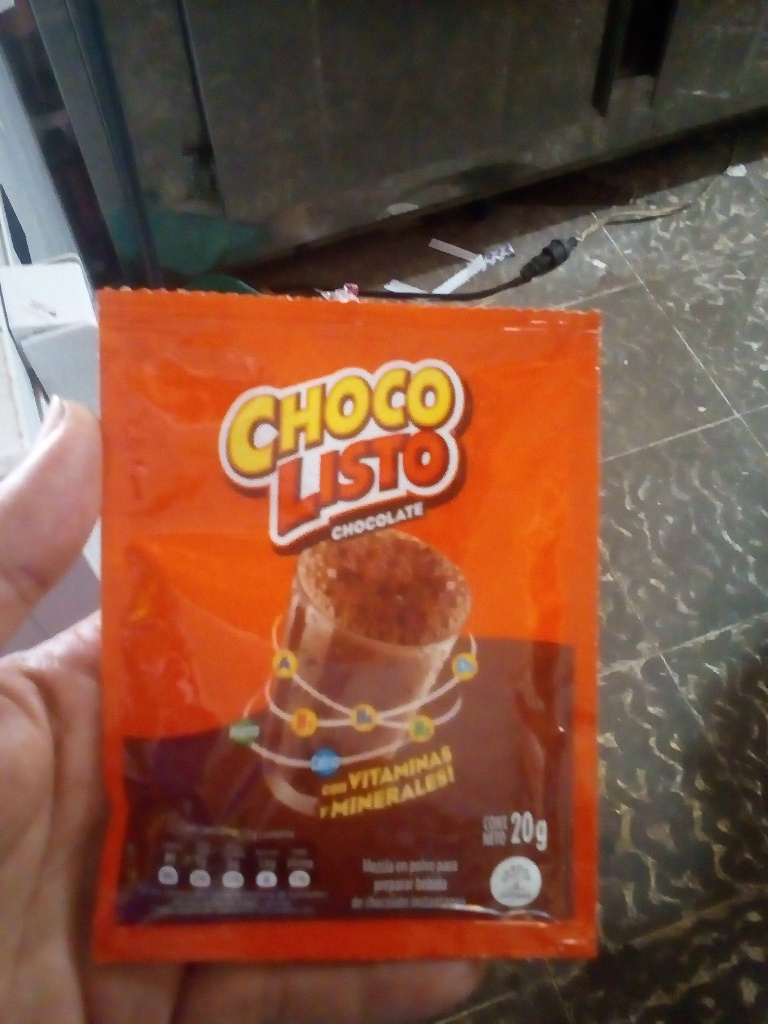COL0170103SOB02000: (97, 285, 609, 971)
